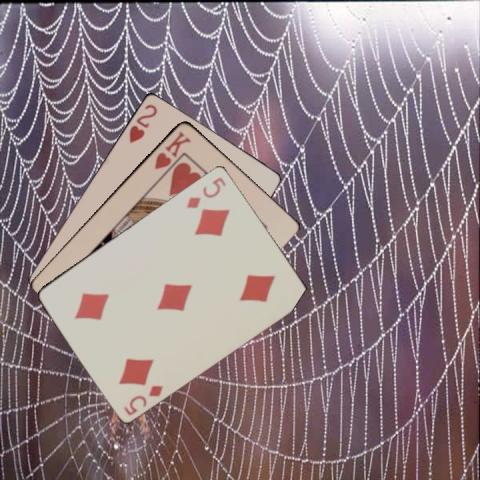2h: (125, 100, 159, 144)
5d: (183, 174, 228, 210), (120, 381, 164, 417)
Kh: (151, 127, 192, 171)
